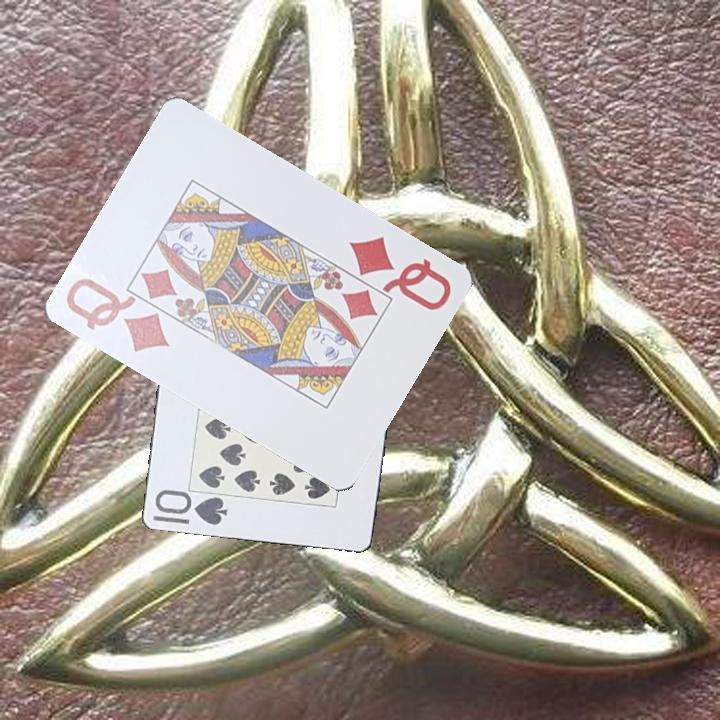Qd: (61, 274, 172, 356), (343, 232, 454, 314)
Ts: (149, 487, 231, 528)
